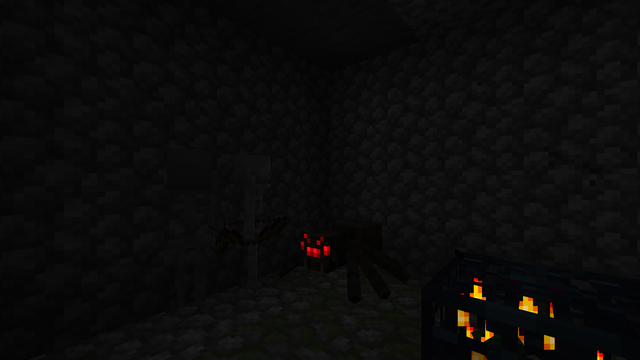araignees: (280, 215, 397, 306)
squelettes: (160, 148, 222, 319), (235, 154, 279, 290)
